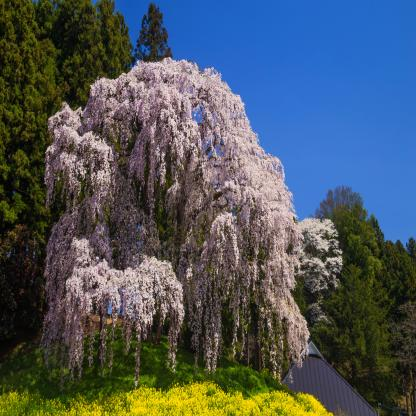ShidareZakura: (38, 57, 344, 388)
